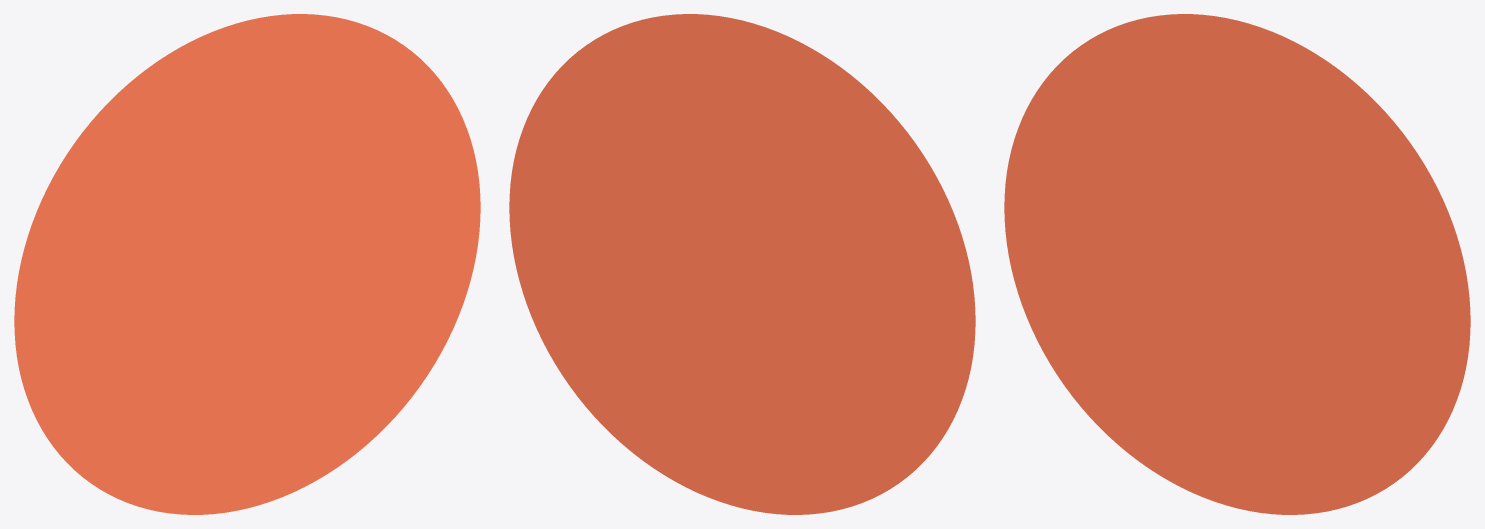
Rendered from hand.gemacht WebApp cv marker topic.glb.
The picture shows the model from 3 angles, left to right: view 1: azimuth 30°, elevation 25°; view 2: azimuth 150°, elevation 25°; view 3: azimuth 330°, elevation 25°; orthographic projection.
Visible parts, largest first — view 1: cv marker topic; view 2: cv marker topic; view 3: cv marker topic.
Part boxes in pixels (bbox=[...]): cv marker topic: bbox=[14, 14, 480, 514]; cv marker topic: bbox=[509, 14, 975, 514]; cv marker topic: bbox=[1004, 14, 1470, 514].
Size of the model in its own units: 0.0199 by 0.0199 by 0.
